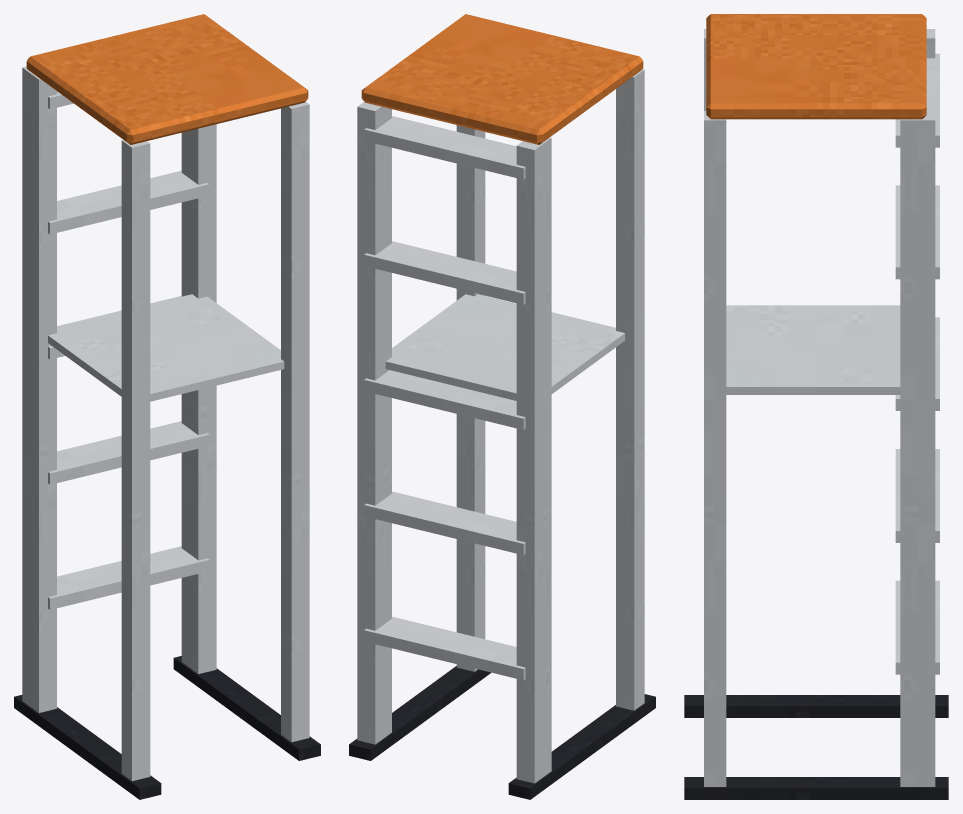
The picture shows the model from 3 angles, left to right: view 1: azimuth 30°, elevation 25°; view 2: azimuth 150°, elevation 25°; view 3: azimuth 270°, elevation 25°; orthographic projection. The views are drawn at different scales.
Parts seen in each view (by area): view 1: stepladder; view 2: stepladder; view 3: stepladder.
Part boxes in pixels (bbox=[...]): stepladder: bbox=[14, 14, 320, 799]; stepladder: bbox=[349, 14, 655, 799]; stepladder: bbox=[684, 14, 948, 799].
Bounding box in the file's own units: 0.5 × 1.74 × 0.6.
3 materials, 3 textured.
